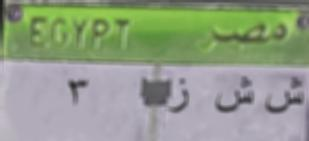3: (65, 74, 92, 110)
sheen: (264, 76, 305, 122), (214, 76, 255, 120)
zay: (166, 78, 193, 119)
